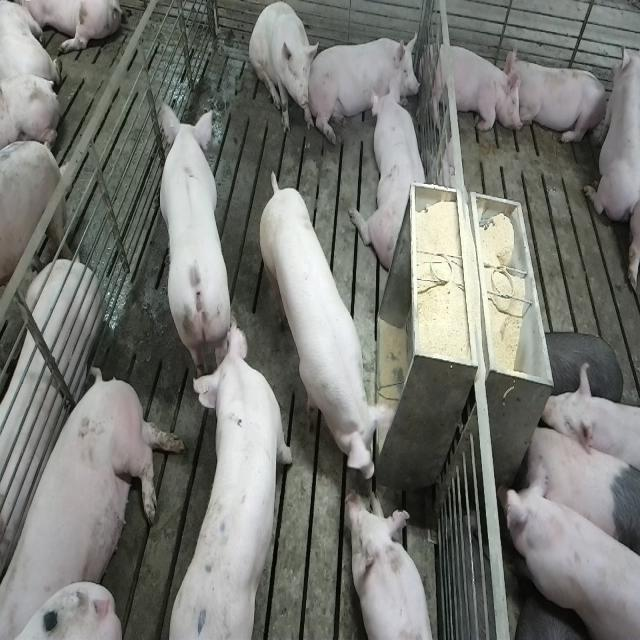Lateral_lying: (5, 363, 186, 635), (0, 259, 103, 579)
Sitting: (250, 3, 318, 138)
Standing: (258, 174, 398, 485), (168, 310, 296, 635), (499, 468, 637, 638), (155, 102, 233, 379), (520, 419, 638, 564), (0, 140, 72, 337), (542, 361, 640, 480)
Sternal_lying: (356, 83, 430, 274), (348, 487, 439, 638), (313, 27, 420, 136), (584, 36, 637, 225), (509, 52, 610, 149), (425, 38, 520, 138)
